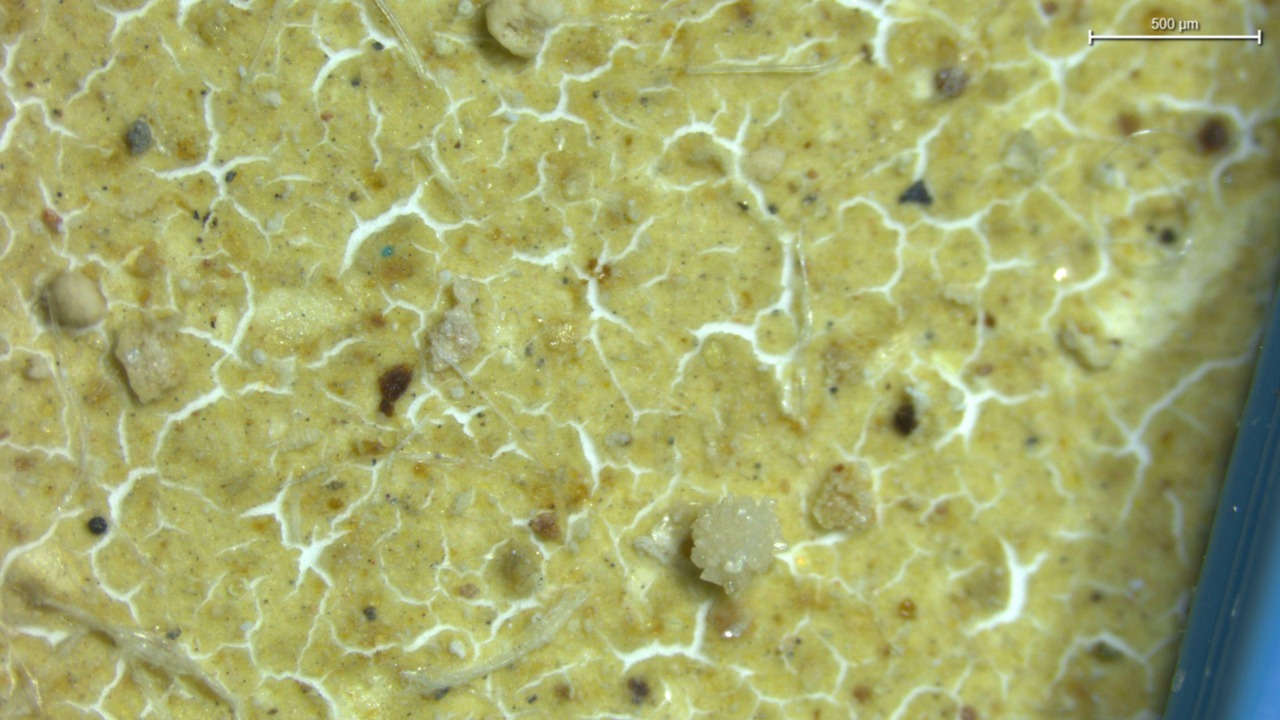microplastic_fragment: (690, 496, 783, 595), (114, 326, 183, 404), (432, 276, 480, 372), (485, 0, 562, 58)
